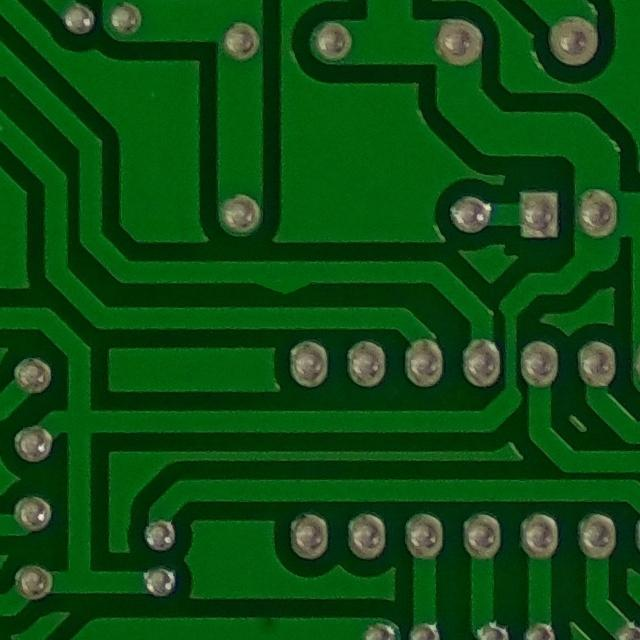spur: (230, 248, 325, 304)
